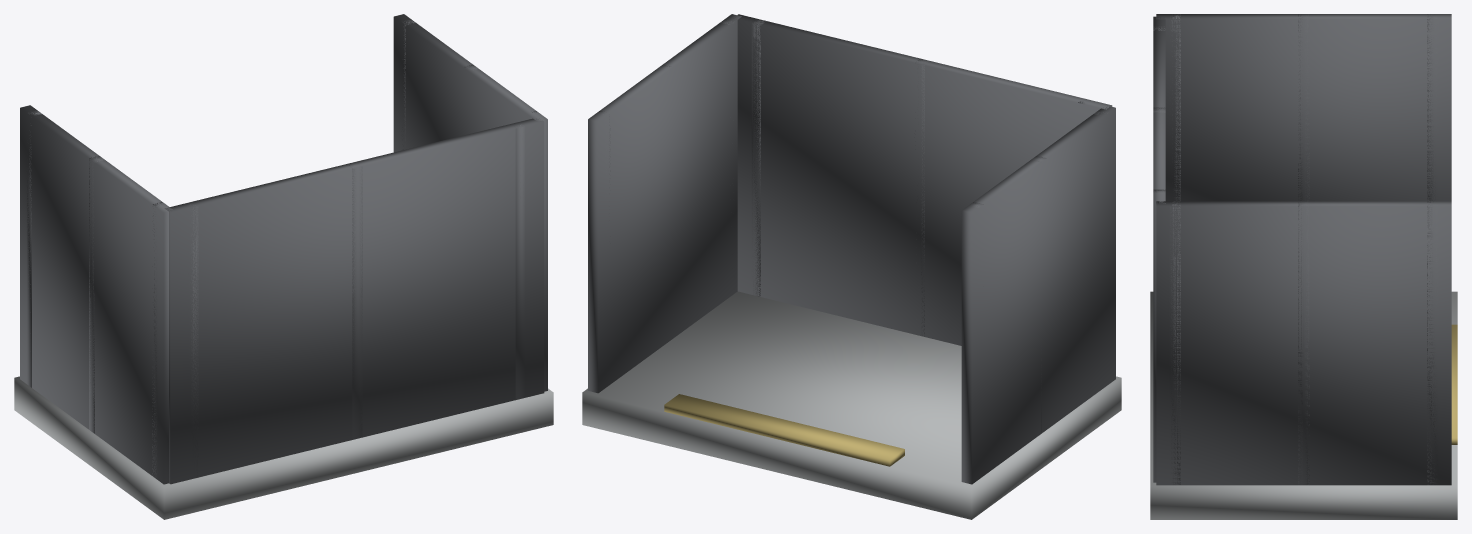
File: floor_w150_d100_three.glb
3 views of the same model, side by side, from view 1: azimuth 30°, elevation 25°; view 2: azimuth 150°, elevation 25°; view 3: azimuth 270°, elevation 25° (orthographic). The views are drawn at different scales.
Visible parts, largest first — view 1: world; view 2: world; view 3: world.
Boxes of the visible parts, left/top/right/bottom form: world: left=14, top=14, right=553, bottom=519; world: left=582, top=14, right=1121, bottom=519; world: left=1150, top=14, right=1457, bottom=519.
Bounding box in the file's own units: 1.5 × 1.12 × 1.
